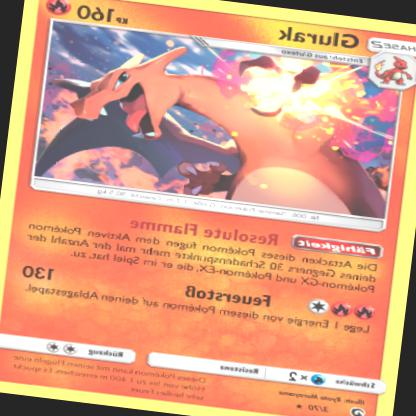Squirtle: (62, 35, 383, 217)
